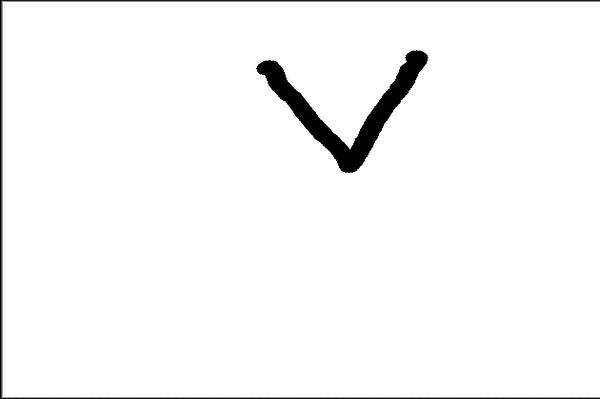V: (244, 47, 437, 182)
